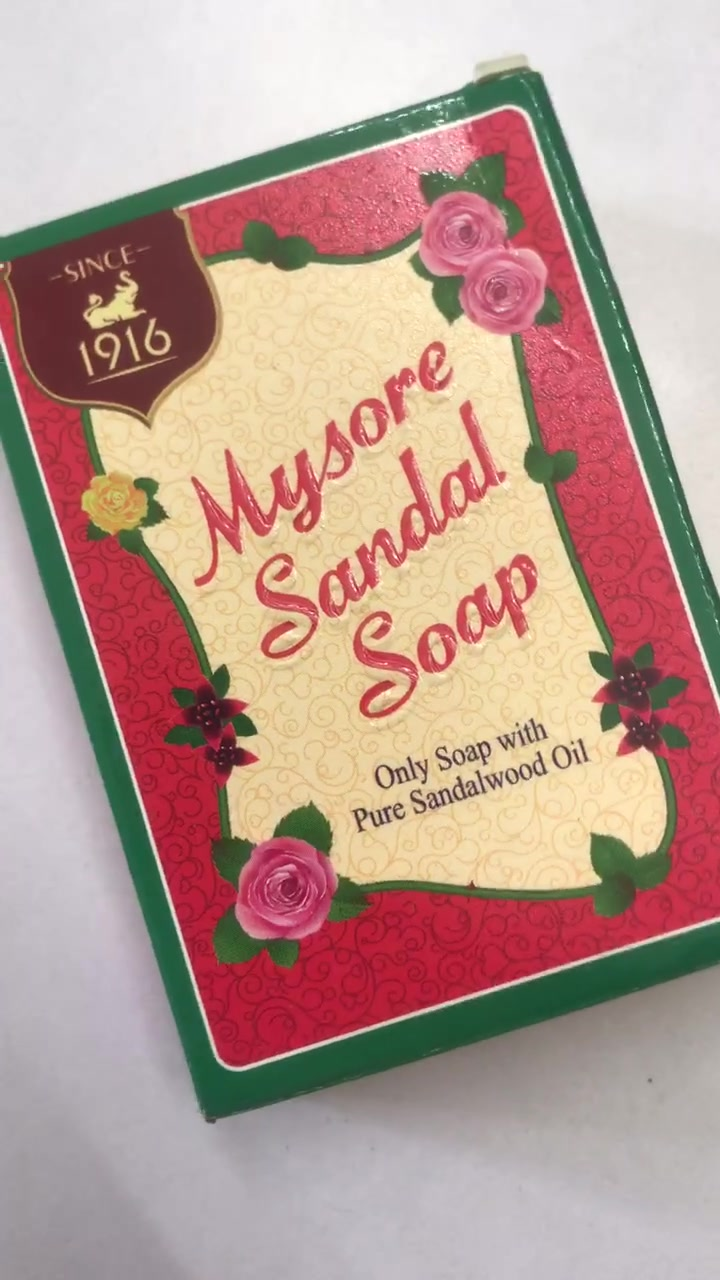mysore sandal soap: (2, 68, 720, 1119)
